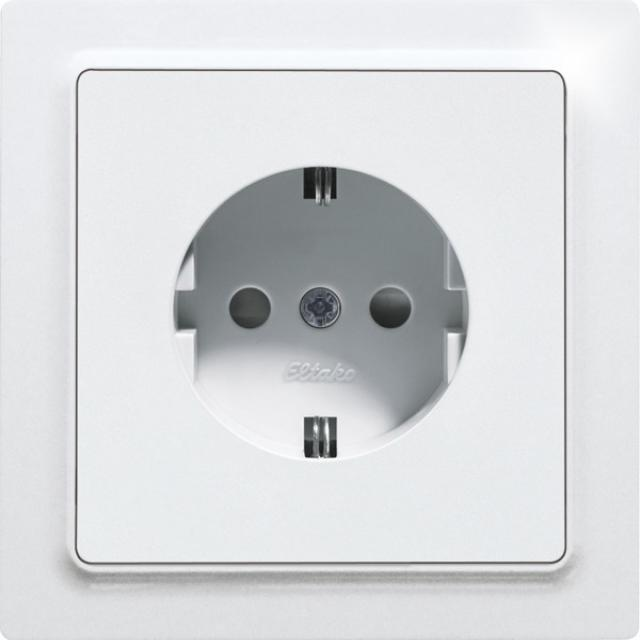typeb: (38, 31, 594, 596)
